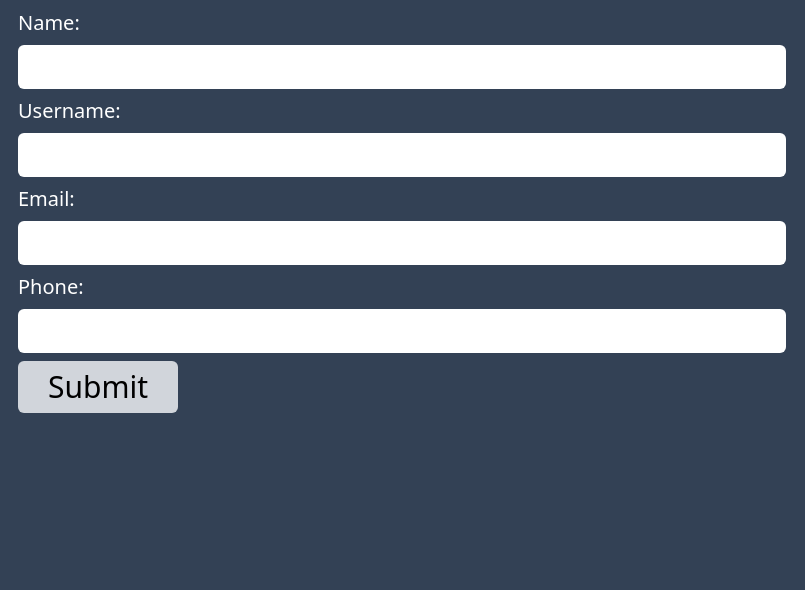
Scenario: Form validation › All fields empty check
Click the submit button at (98, 387), box [18, 361, 178, 413]
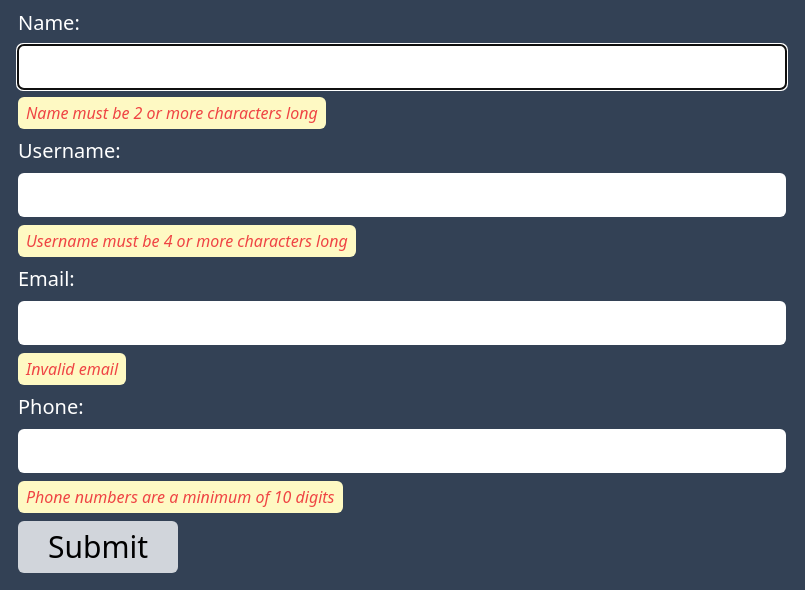
Now the text with test id "nameError" reads "Name must be 2 or more characters long", box [26, 102, 318, 124]
Now the text with test id "userNameError" reads "Username must be 4 or more characters long", box [26, 230, 348, 252]
Now the text with test id "emailError" reads "Invalid email", box [26, 358, 118, 380]
